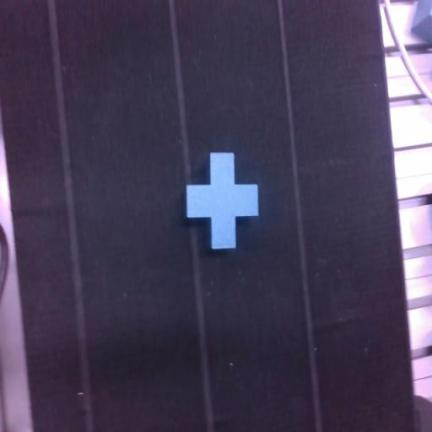cross: (187, 153, 258, 248)
